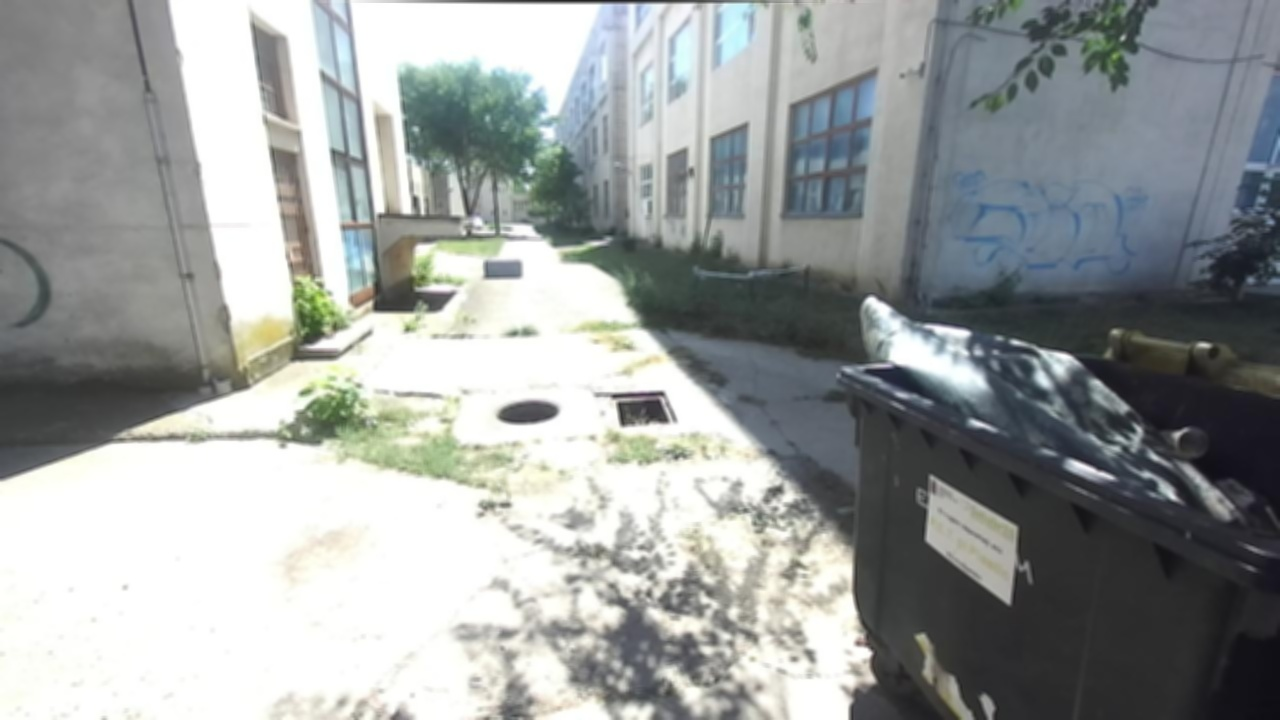drain: (611, 390, 679, 428), (490, 393, 566, 424)
